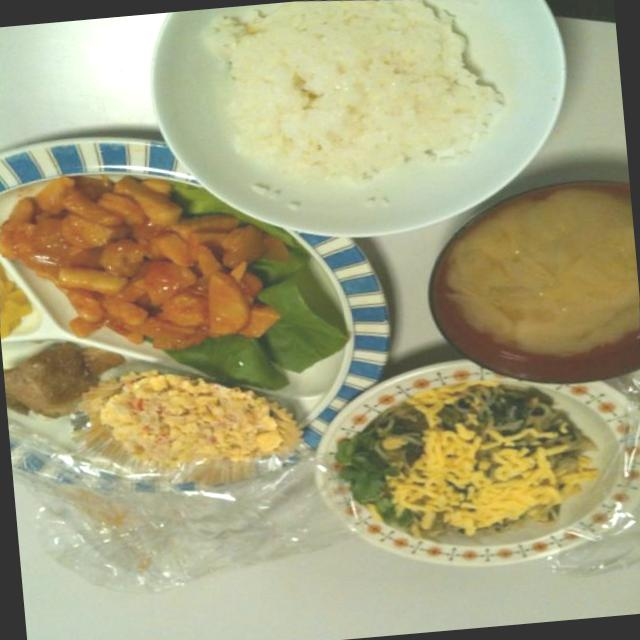Rice: (191, 0, 510, 209)
